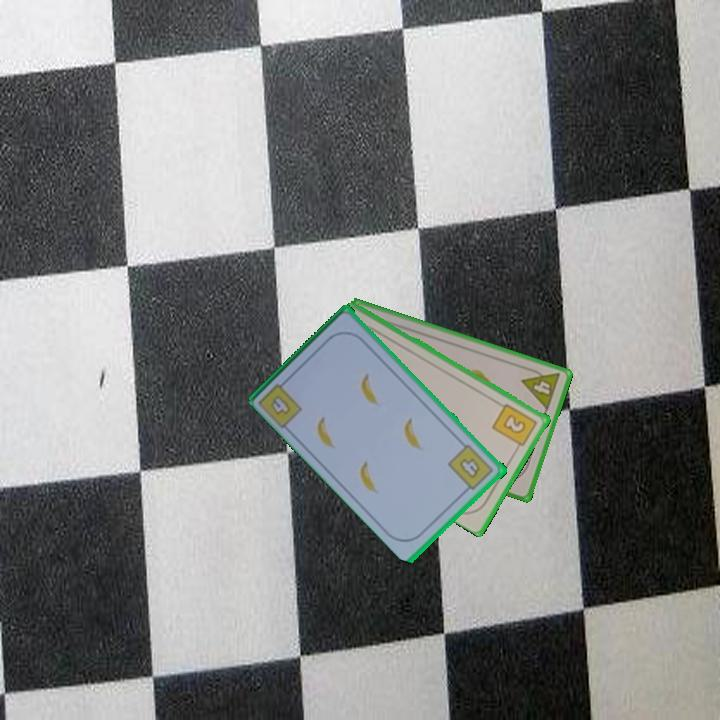2b: (489, 400, 540, 453)
4b: (445, 441, 497, 495), (256, 374, 306, 430)
4p: (518, 363, 563, 413)
